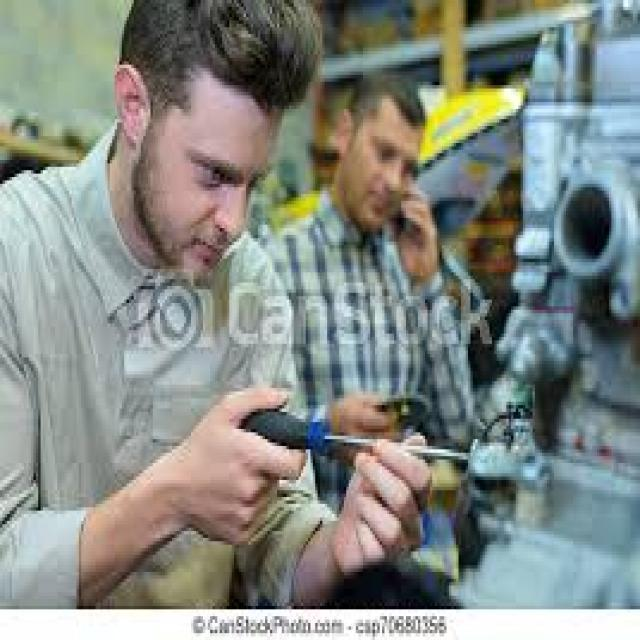screwdriver: (235, 398, 493, 466)
